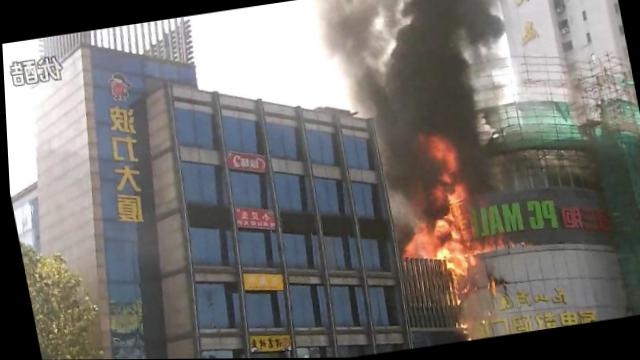fire: (445, 183, 476, 268), (433, 134, 458, 175), (403, 231, 436, 261), (446, 240, 464, 276), (429, 213, 454, 238), (472, 235, 502, 253), (433, 245, 450, 267), (484, 276, 494, 296)
